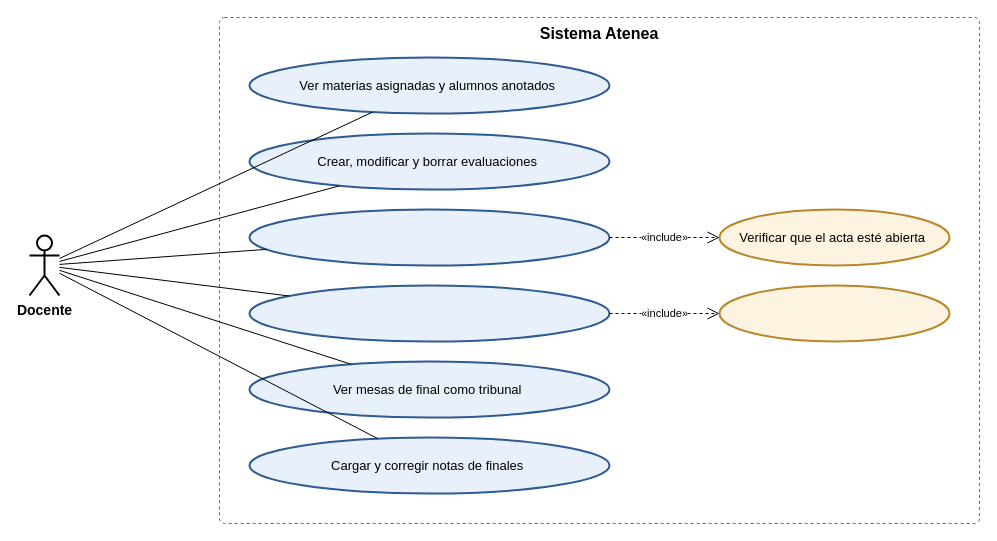
Image size: 997x541. Some labels were removed from this diagram. The box of each missing label's shape, as (x1, y1, x2, y2) in pixels:
Cargar y corregir notas de cursada: (248, 208, 610, 266)
Cerrar acta de cursada: (248, 284, 610, 342)
Fijar vencimiento de regularidad a 2 años: (718, 284, 950, 342)
